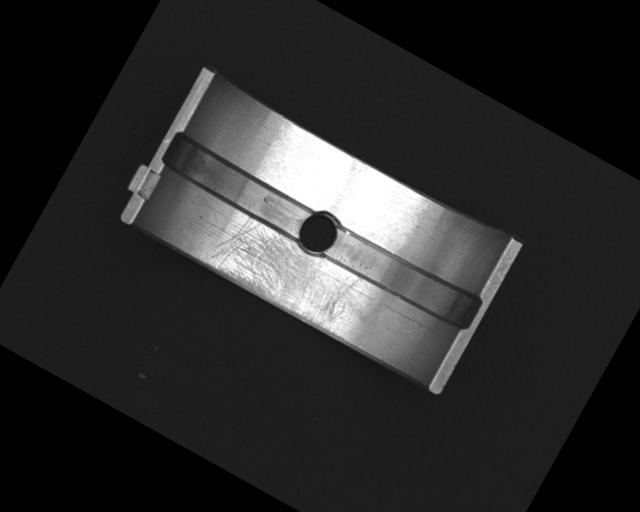gap: (320, 220, 483, 336), (158, 131, 315, 239)
hole: (292, 203, 346, 262)
scratch: (204, 207, 374, 341)
